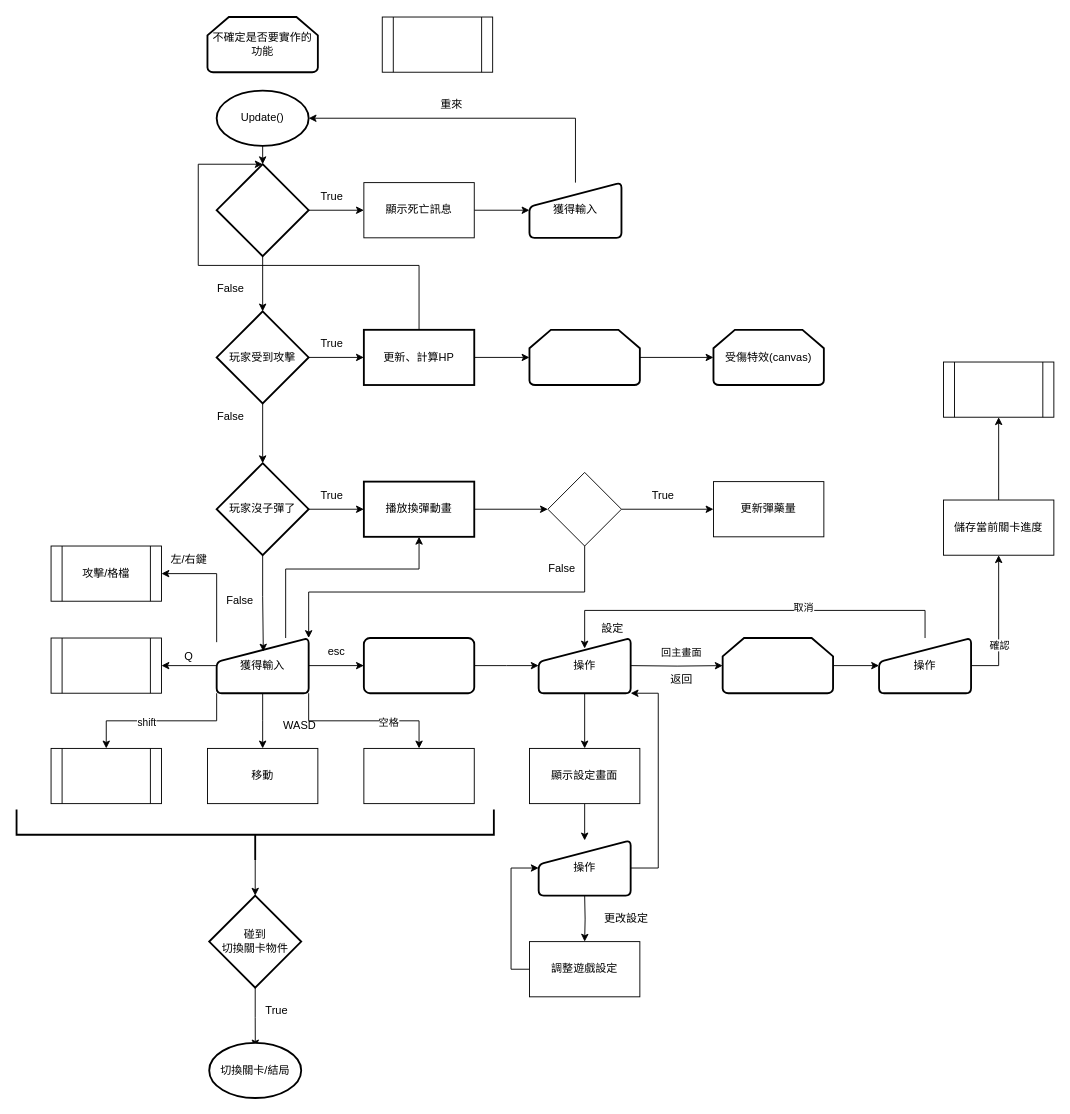
Some shapes in this 1070 by 1114 pixel diagram are drawn without their labels. The shapes that lost their labels are listed below. From the top down, each one's centre as x and y in pixels, then its label:
At point (437, 44): "包裝流程(省略)".
At point (262, 210): "玩家死亡".
At point (584, 356): "短暫無敵".
At point (998, 389): "顯示主選單".
At point (584, 509): "動畫完成".
At point (105, 665): "丟繩子".
At point (418, 665): "主選單顯示".
At point (777, 665): "警告存檔會遺失".
At point (105, 776): "下鏟".
At point (418, 776): "跳躍".
